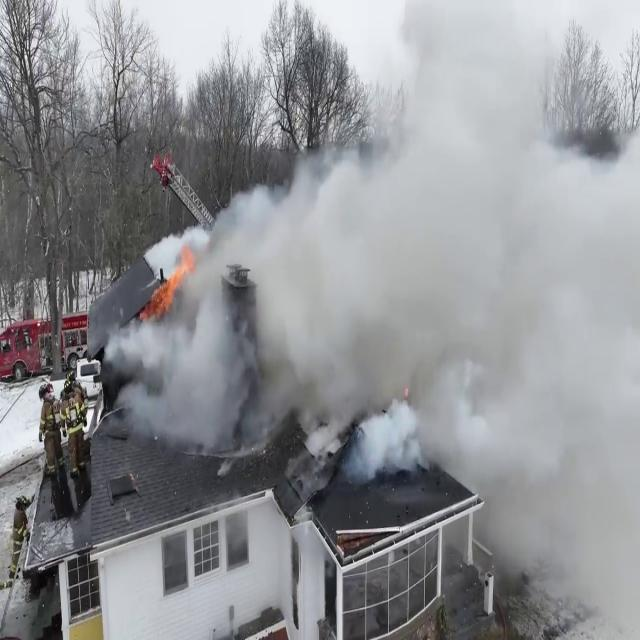Fire: (158, 243, 197, 310)
Smoke: (126, 7, 640, 474)
